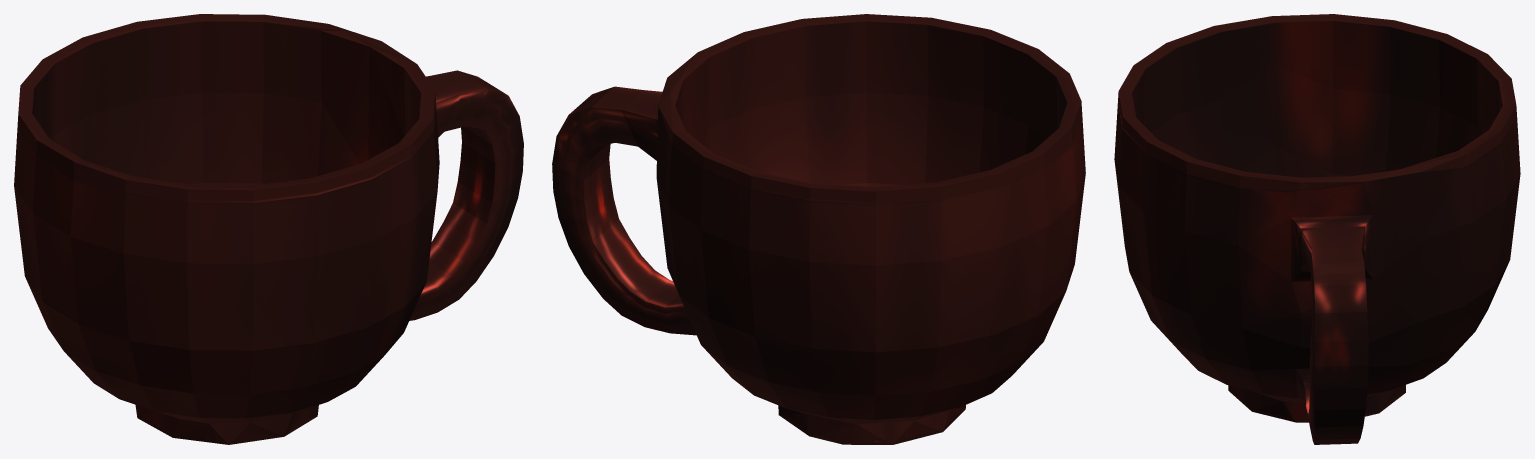
Rendered from NNJ0410021.fbx.
The picture shows the model from 3 angles, left to right: view 1: azimuth 30°, elevation 25°; view 2: azimuth 150°, elevation 25°; view 3: azimuth 270°, elevation 25°; orthographic projection. The views are drawn at different scales.
Parts seen in each view (by area): view 1: smNNJ0410021; view 2: smNNJ0410021; view 3: smNNJ0410021.
Part boxes in pixels (x1,y1,x2,y2): smNNJ0410021: [14, 14, 523, 444]; smNNJ0410021: [552, 14, 1085, 444]; smNNJ0410021: [1114, 14, 1520, 444].
Size of the model in its own units: 14.34 by 8.68 by 11.05.
1 material, 1 textured.
